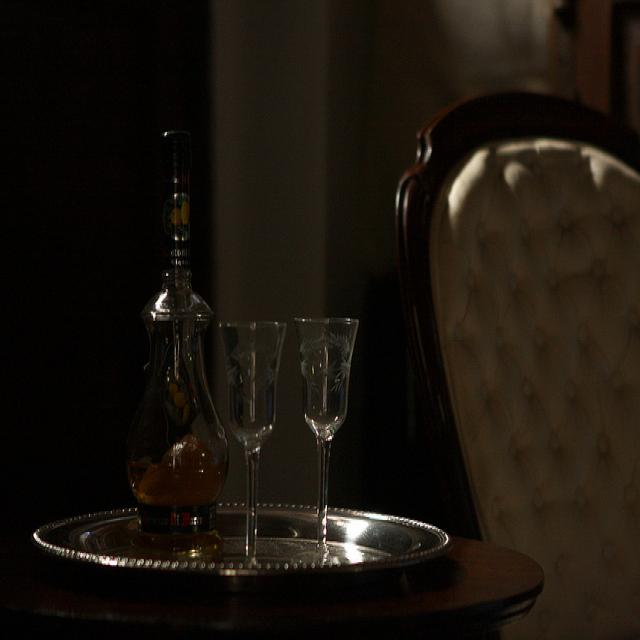Bottle: (130, 94, 231, 534)
Cup: (289, 308, 371, 570), (215, 305, 286, 569)
chair: (396, 33, 640, 626)
